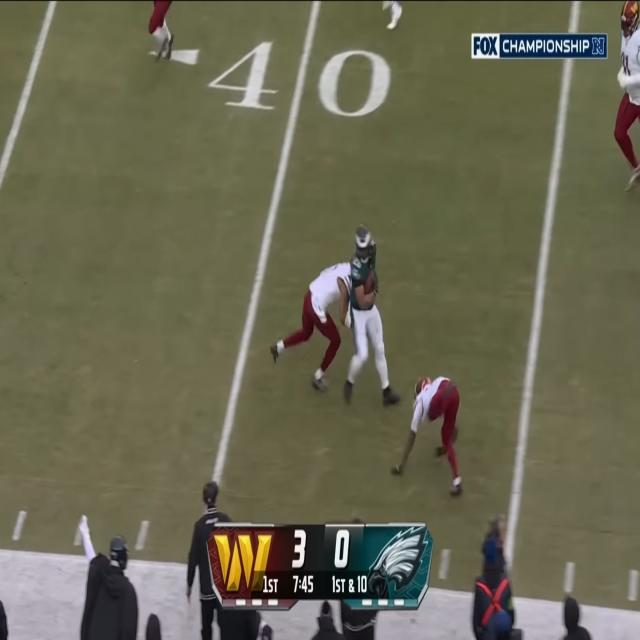Ball: (363, 271, 377, 296)
